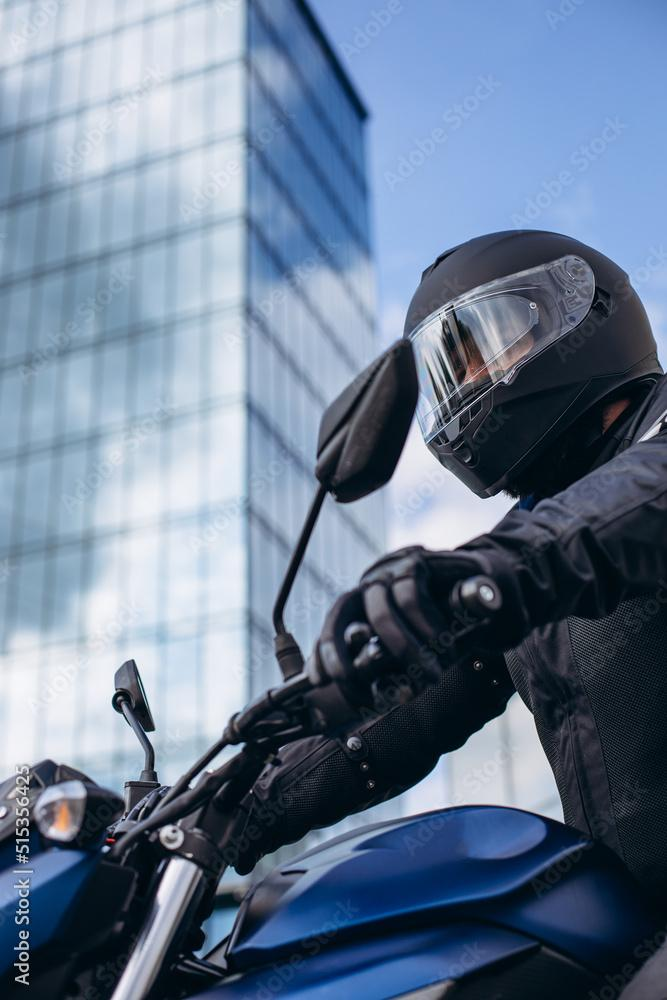helmet: (397, 227, 667, 502)
